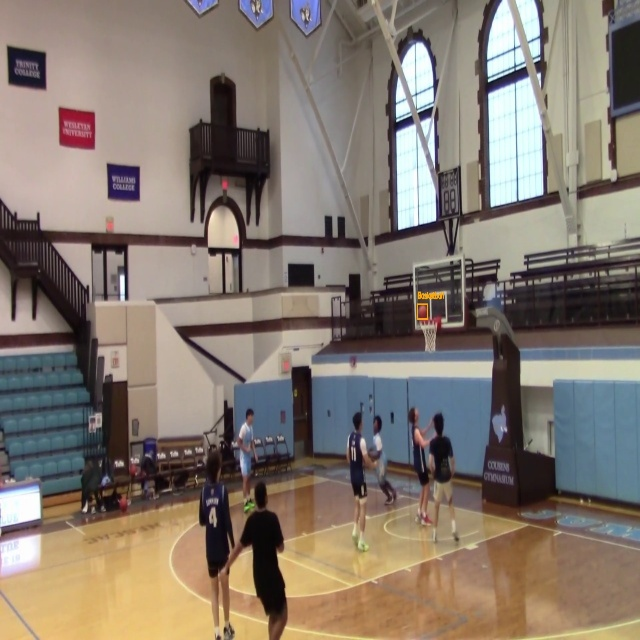Basketball: (418, 305, 428, 319)
